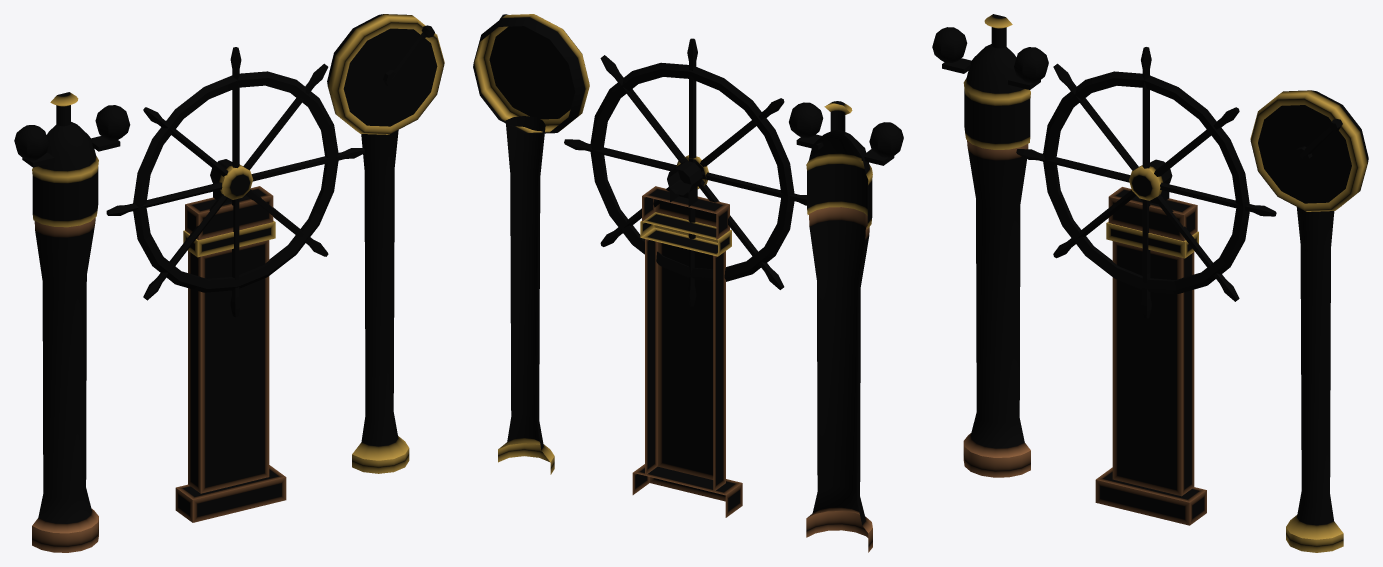
The model's file is wheel_stand.glb.
3 views of the same model, side by side, from view 1: azimuth 30°, elevation 25°; view 2: azimuth 150°, elevation 25°; view 3: azimuth 330°, elevation 25° (orthographic).
Visible parts, largest first — view 1: teak, brass, frame, enamel, dark; view 2: teak, brass, frame, enamel, dark; view 3: teak, brass, frame, enamel, dark.
Part boxes in pixels (x1,y1,x2,y2): teak: (32, 47, 364, 552); brass: (22, 14, 444, 473); frame: (175, 186, 286, 522); enamel: (343, 28, 437, 126); dark: (14, 105, 130, 160); teak: (564, 38, 872, 552); brass: (473, 14, 894, 474); frame: (632, 186, 742, 517); enamel: (489, 26, 575, 119); dark: (789, 102, 903, 157); teak: (963, 47, 1276, 477); brass: (942, 14, 1368, 552); frame: (1095, 187, 1206, 525); enamel: (1258, 105, 1351, 203); dark: (932, 27, 1048, 82).
Bounding box in the file's own units: 1.37 × 1.41 × 0.1.
